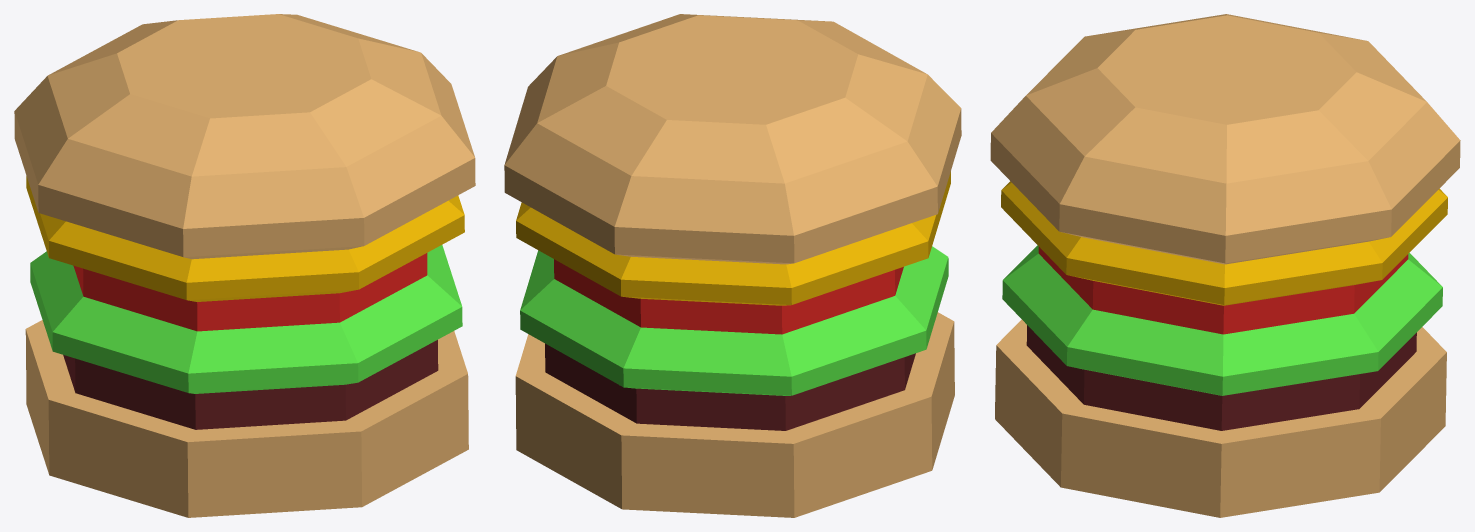
File: burger.fbx
3 renders of one model, left to right at view 1: azimuth 30°, elevation 25°; view 2: azimuth 150°, elevation 25°; view 3: azimuth 270°, elevation 25°, orthographic.
Parts seen in each view (by area): view 1: Cylinder; view 2: Cylinder; view 3: Cylinder.
Boxes of the visible parts, bbox=[...] form: Cylinder: bbox=[14, 14, 475, 517]; Cylinder: bbox=[504, 14, 961, 517]; Cylinder: bbox=[990, 14, 1460, 517].
Size of the model in its own units: 208 by 175 by 209.
